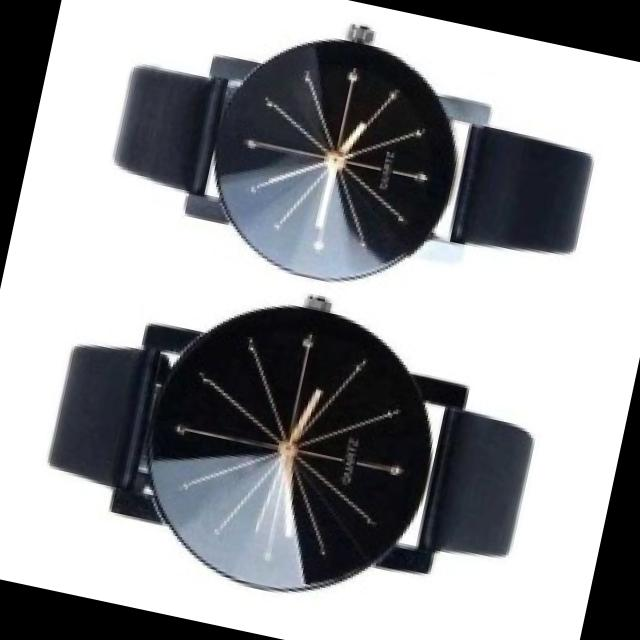saat: (15, 238, 565, 640)
